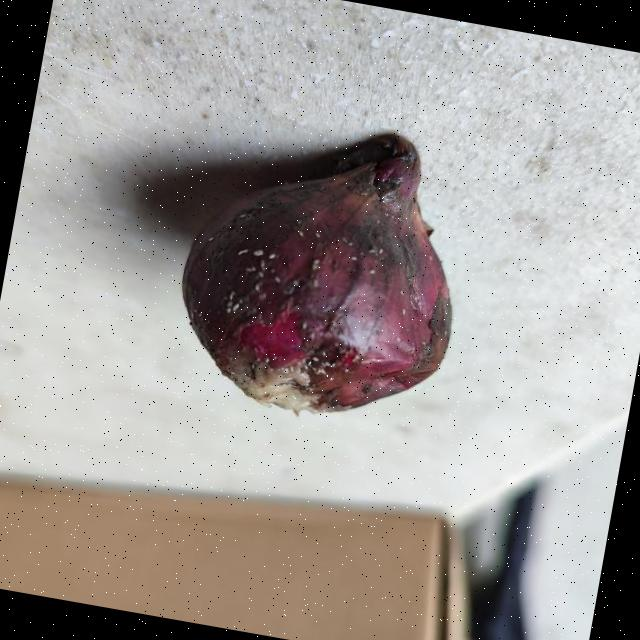Onion: (180, 133, 450, 411)
